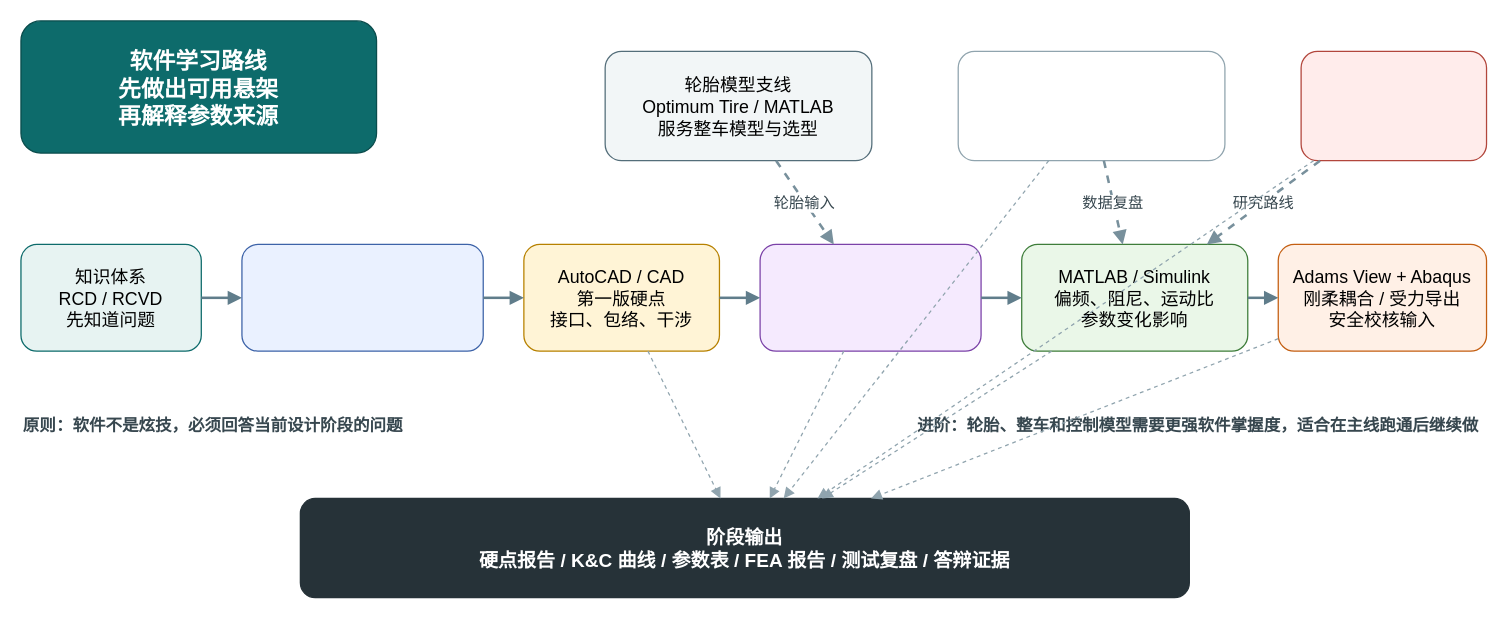
Image size: 1507x618. Some labels were removed from this diagram. The centre of each missing label's shape, as x and y in pixels:
"Adams + Abaqus/Ansys 入组必修 跑模型 / 看应力" goes at pixel 362 297.
"Adams Car / Insight K&C 检查 簧下硬点优化" goes at pixel 870 297.
"CarSim / 控制模型 整车、赛道、科研 后期答辩加分项" goes at pixel 1393 105.
"实车数据分析 AiM / Race Studio 导出后用 MATLAB 复盘" goes at pixel 1091 105.
